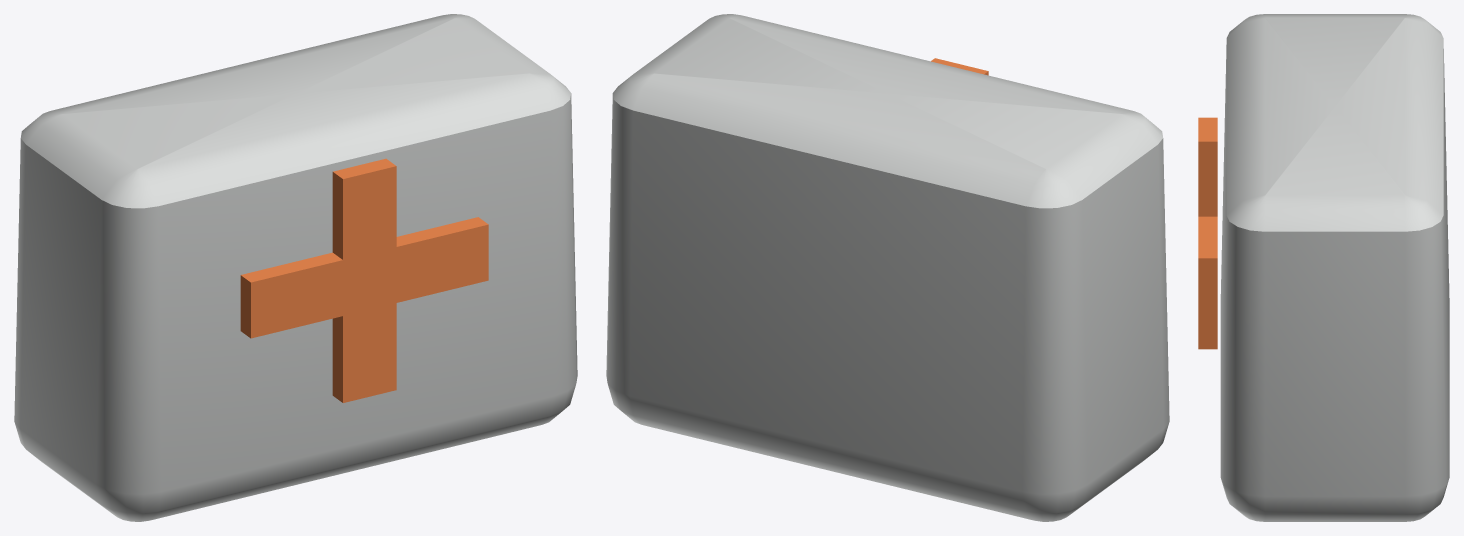
File: powerboat-racing-and-launch-ramp-first-aid-box-5eeb9972__22299.glb
3 views of the same model, side by side, from view 1: azimuth 30°, elevation 25°; view 2: azimuth 150°, elevation 25°; view 3: azimuth 270°, elevation 25° (orthographic). The views are drawn at different scales.
Visible parts, largest first — view 1: first-aid-box; view 2: first-aid-box; view 3: first-aid-box.
Boxes of the visible parts, x1,y1,x2,y2 form: first-aid-box: [14, 14, 577, 521]; first-aid-box: [606, 14, 1169, 521]; first-aid-box: [1198, 14, 1449, 521].
Size of the model in its own units: 0.4 by 0.28 by 0.1975.
